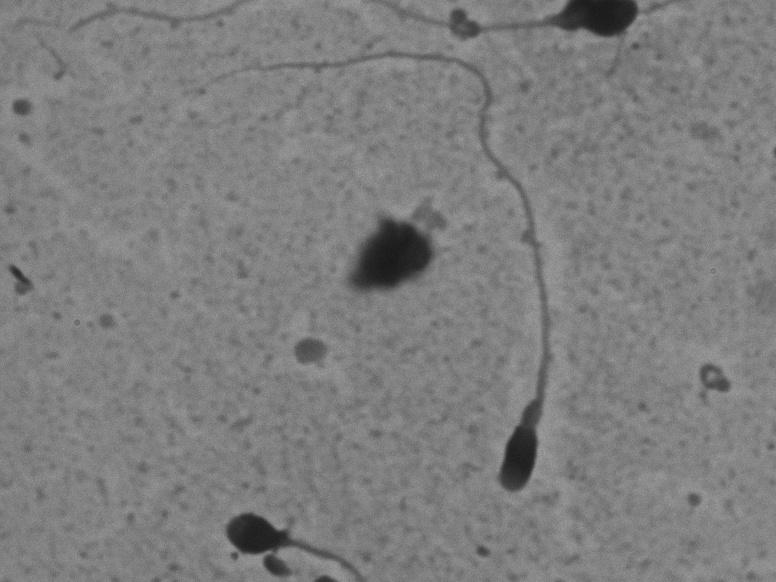Abnormal: (188, 40, 572, 502), (174, 454, 411, 579)
